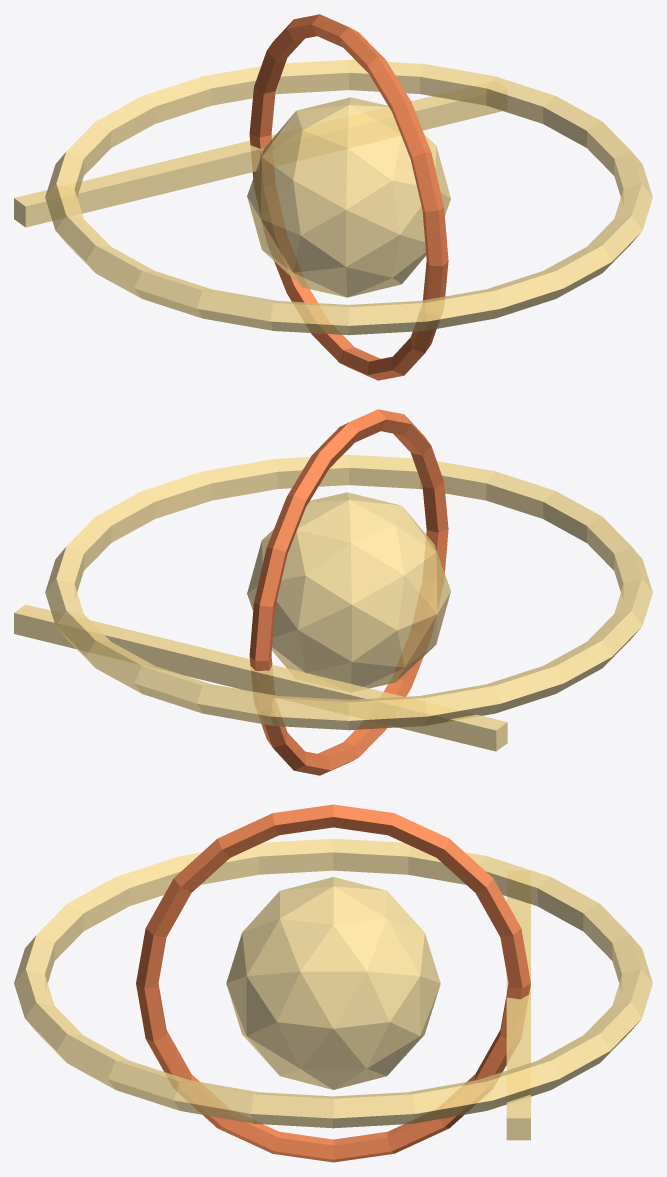
The model's file is 04_emissive_glow_overlay_4.glb.
3 views of the same model, one above another, from view 1: azimuth 30°, elevation 25°; view 2: azimuth 150°, elevation 25°; view 3: azimuth 270°, elevation 25° (orthographic). The views are drawn at different scales.
Visible parts, largest first — view 1: emissive_outer_ring, glow_core, emissive_inner_ring, emissive_strip; view 2: emissive_outer_ring, glow_core, emissive_inner_ring, emissive_strip; view 3: emissive_outer_ring, glow_core, emissive_inner_ring, emissive_strip.
Boxes of the visible parts, box(x1,y1,x2,y2) form: emissive_outer_ring: box(45, 59, 652, 335); glow_core: box(247, 97, 450, 297); emissive_inner_ring: box(249, 14, 448, 380); emissive_strip: box(14, 96, 502, 227); emissive_outer_ring: box(45, 454, 652, 730); glow_core: box(247, 492, 450, 688); emissive_inner_ring: box(249, 409, 448, 775); emissive_strip: box(14, 604, 507, 751); emissive_outer_ring: box(14, 838, 652, 1128); glow_core: box(226, 877, 440, 1089); emissive_inner_ring: box(136, 804, 530, 1162); emissive_strip: box(506, 896, 530, 1140).
Bounding box in the file's own units: 1.31 × 0.81 × 1.31.
